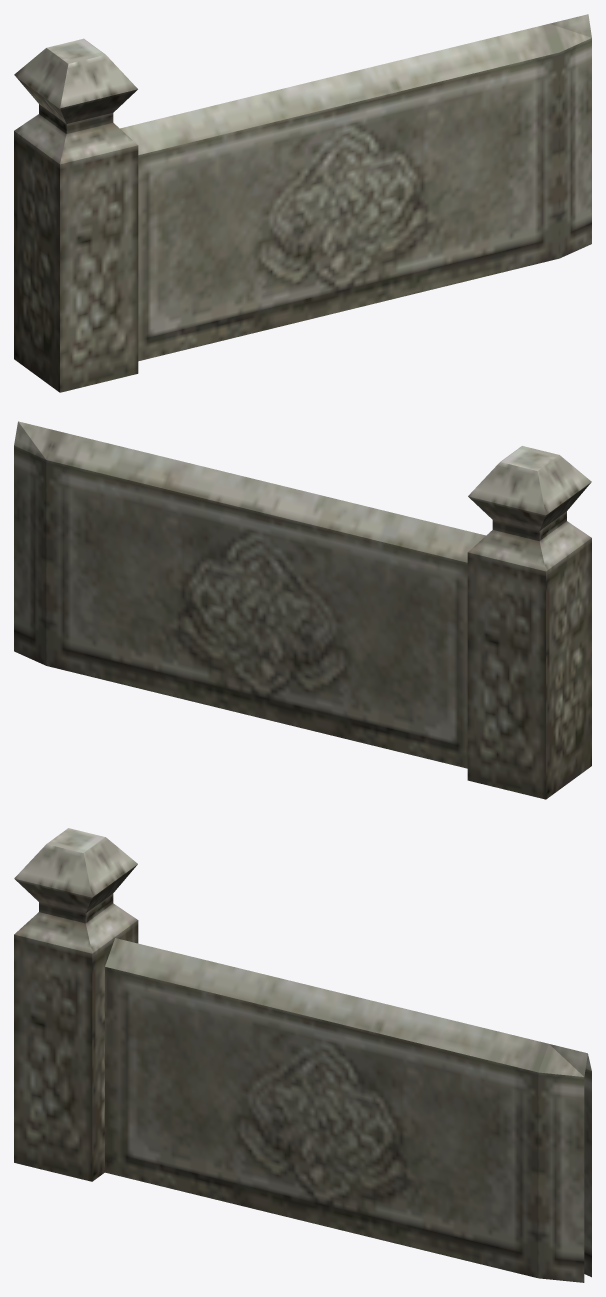
File: secret_fence_01.fbx
3 views of the same model, one above another, from view 1: azimuth 30°, elevation 25°; view 2: azimuth 150°, elevation 25°; view 3: azimuth 330°, elevation 25° (orthographic).
Parts seen in each view (by area): view 1: secret_fence_01; view 2: secret_fence_01; view 3: secret_fence_01.
Boxes of the visible parts, <box> form: secret_fence_01: <box>14,14,591,392</box>; secret_fence_01: <box>14,421,591,799</box>; secret_fence_01: <box>14,828,591,1282</box>.
Bounding box in the file's own units: 2.15 × 1.18 × 0.3111.
